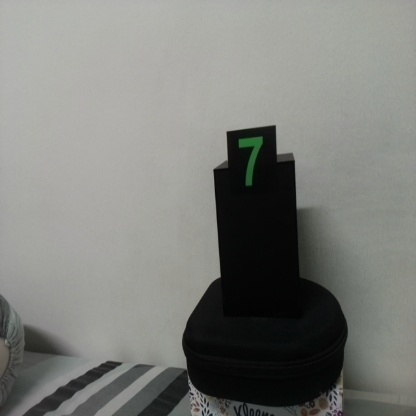id_7: (226, 130, 279, 200)
